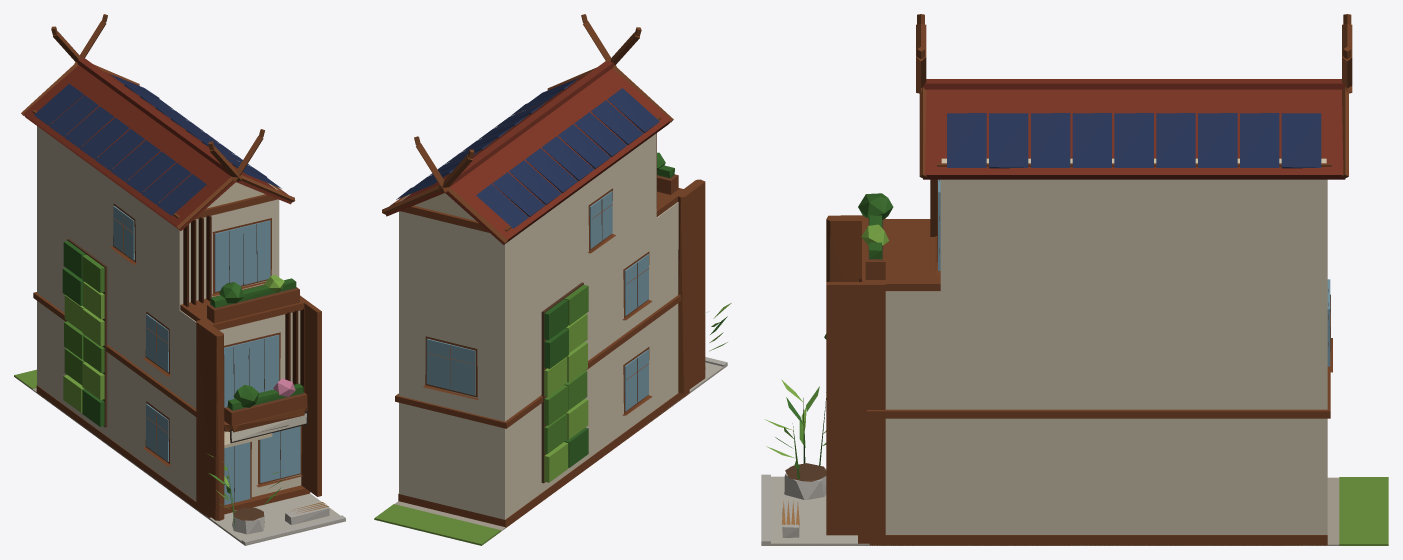
File: bay1_left.glb
3 renders of one model, left to right at view 1: azimuth 30°, elevation 25°; view 2: azimuth 150°, elevation 25°; view 3: azimuth 270°, elevation 25°, orthographic. The views are drawn at different scales.
Visible parts, largest first — view 1: body; view 2: body; view 3: body.
Part boxes in pixels (x1,y1,x2,y2): body: (14,14,345,545); body: (374,14,731,545); body: (761,14,1388,545).
Bounding box in the file's own units: 4.97 × 13.47 × 15.9.
